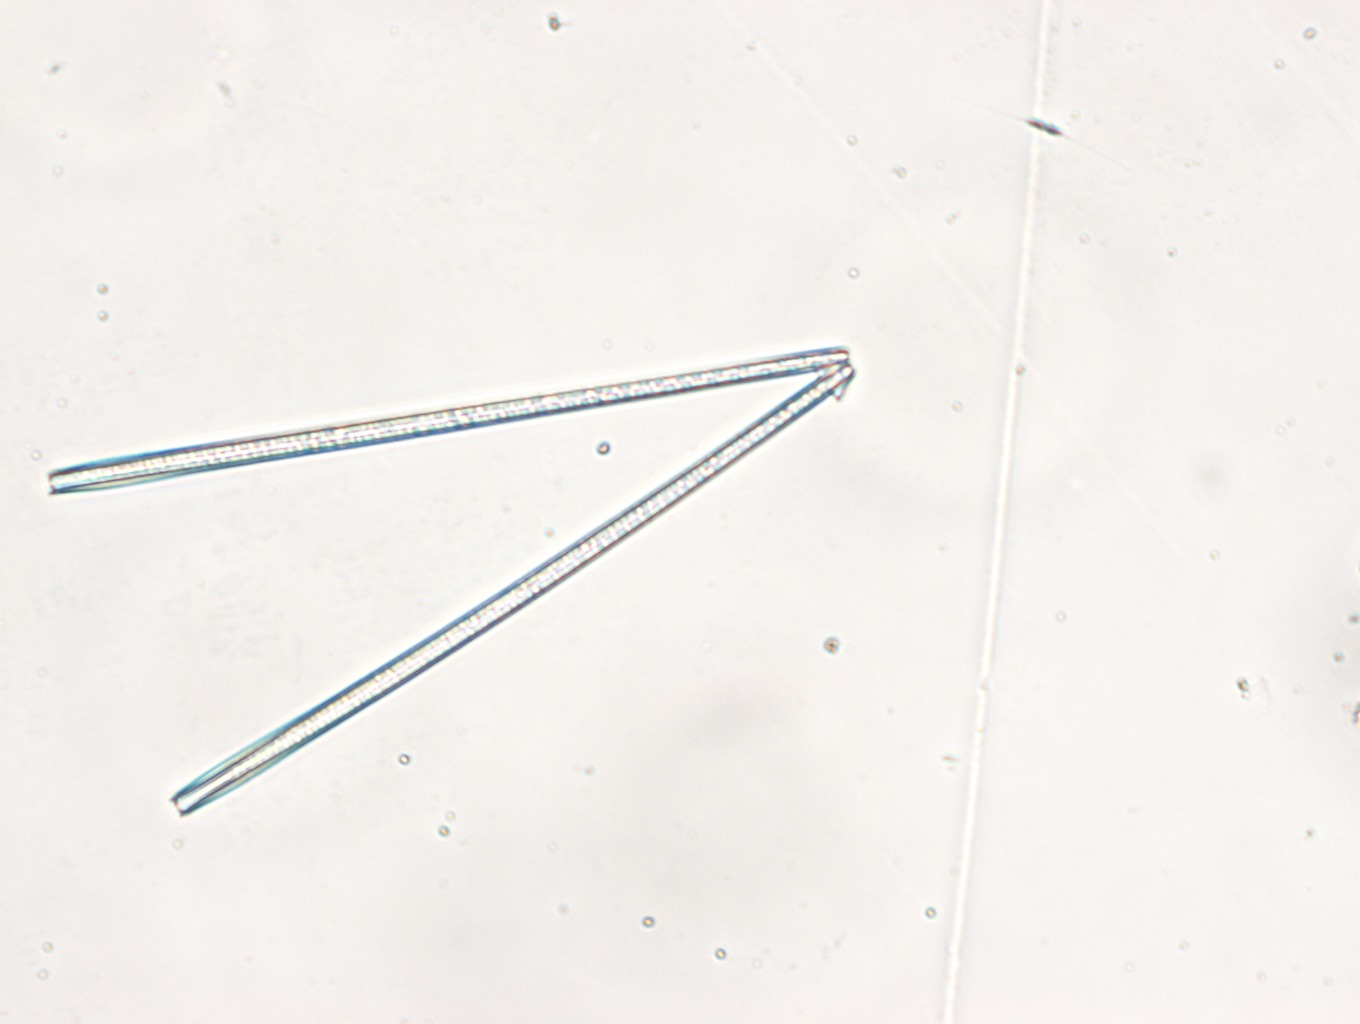thalassionema frauenfeldii: (47, 349, 856, 819)
